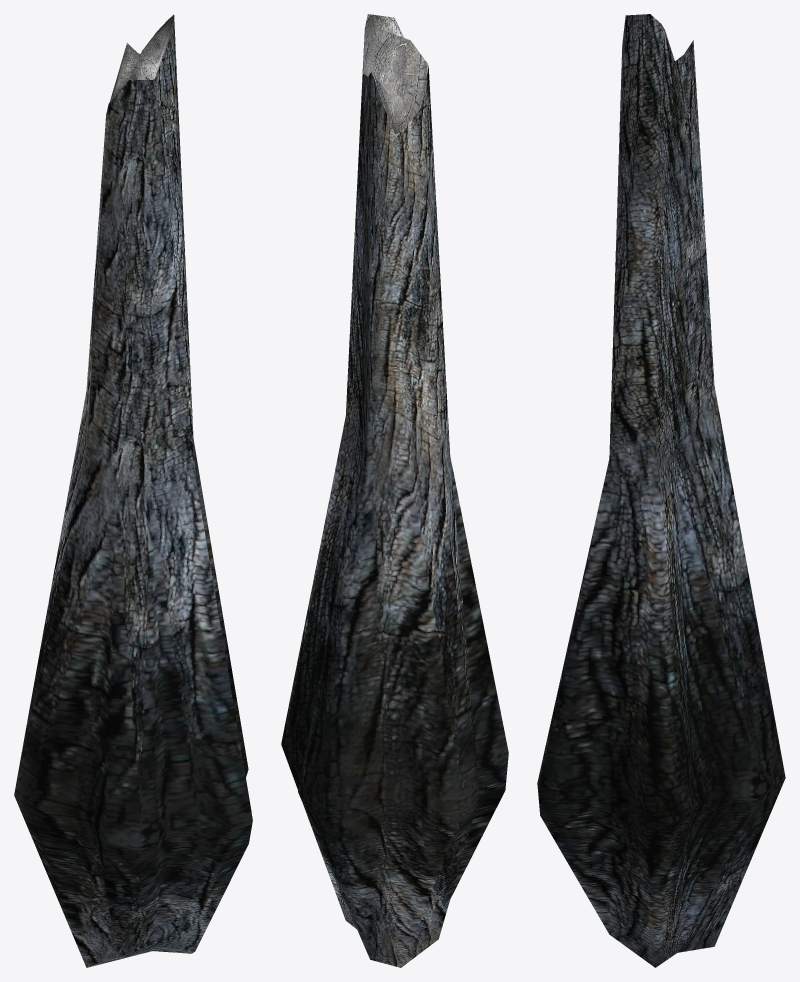
The model's file is decd_scorched_massassi_broke_l0.fbx.
3 views of the same model, side by side, from view 1: azimuth 30°, elevation 25°; view 2: azimuth 150°, elevation 25°; view 3: azimuth 270°, elevation 25° (orthographic). The views are drawn at different scales.
Parts seen in each view (by area): view 1: mesh_node; view 2: mesh_node; view 3: mesh_node.
Boxes of the visible parts, bbox=[...] form: mesh_node: bbox=[14, 14, 252, 967]; mesh_node: bbox=[281, 14, 508, 967]; mesh_node: bbox=[537, 14, 785, 967].
Bounding box in the file's own units: 10.64 × 46.46 × 10.94.
Materials: 3 (3 with a texture image).
